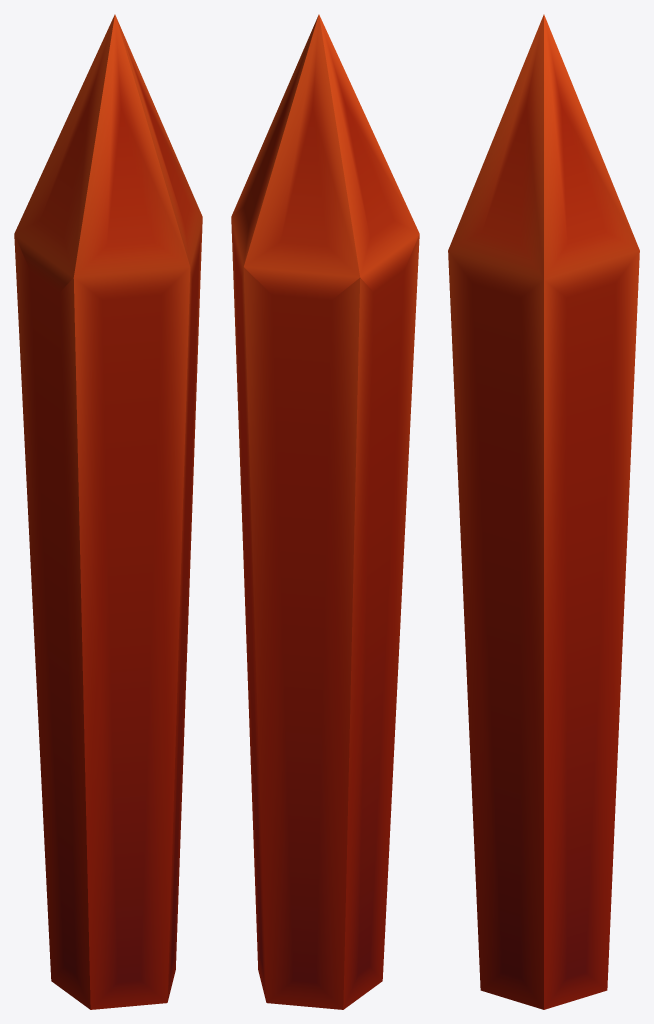
Rendered from Prop_Crystals_Red.fbx.
The picture shows the model from 3 angles, left to right: view 1: azimuth 30°, elevation 25°; view 2: azimuth 150°, elevation 25°; view 3: azimuth 270°, elevation 25°; orthographic projection.
Visible parts, largest first — view 1: Prop_Crystals_Red; view 2: Prop_Crystals_Red; view 3: Prop_Crystals_Red.
Boxes of the visible parts, x1,y1,x2,y2 form: Prop_Crystals_Red: (14, 14, 202, 1009); Prop_Crystals_Red: (231, 14, 419, 1009); Prop_Crystals_Red: (448, 14, 639, 1009).
Bounding box in the file's own units: 20.56 × 120 × 21.62.
Materials: 1 (1 with a texture image).
